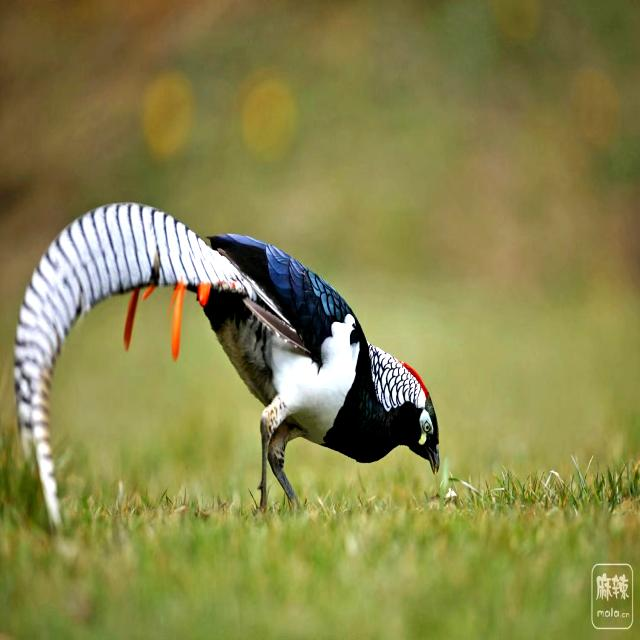Chrysolophus amherstiae: (15, 203, 279, 524)
